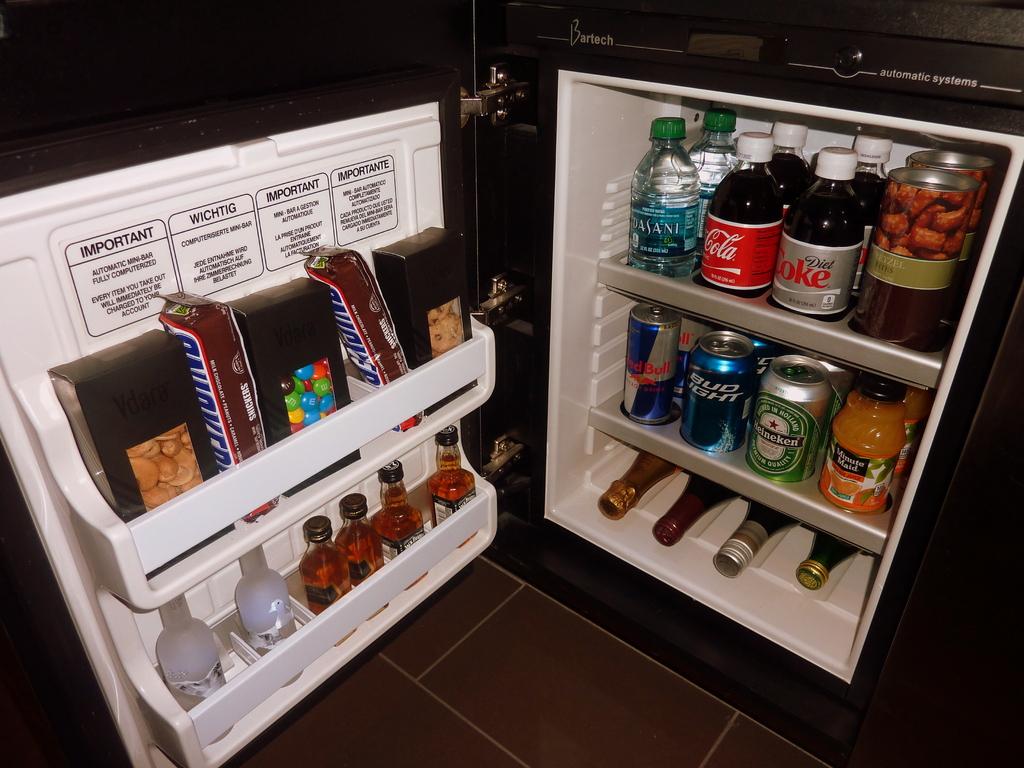refrigerator door: (38, 138, 449, 614)
